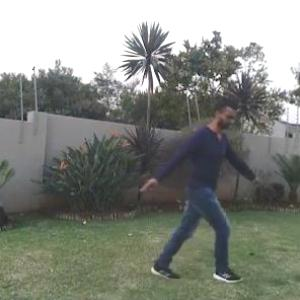land: (134, 89, 259, 287)
